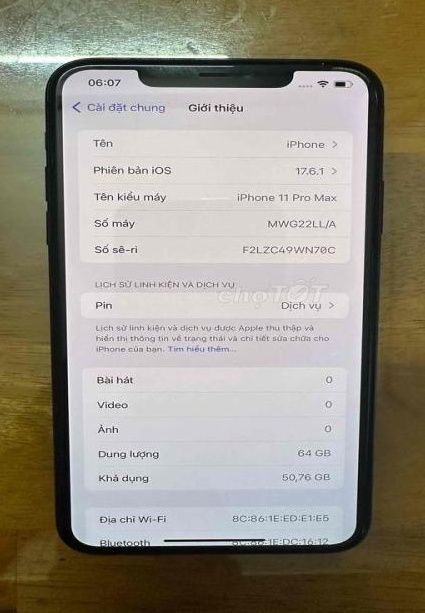scratch: (135, 54, 278, 85)
